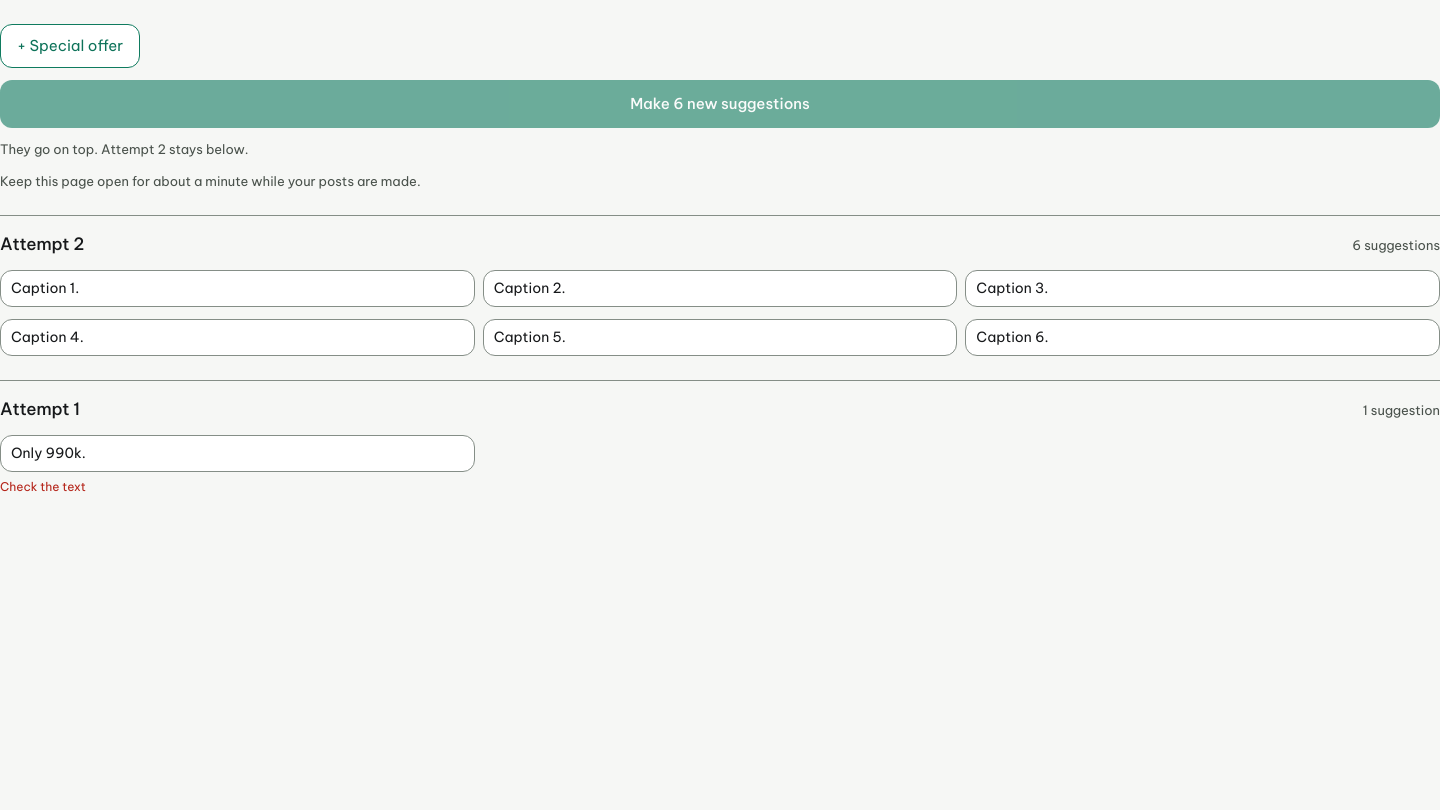
Test: captions follow the business by themselves › an older batch's unedited post is checked against today's details
This screenshot has width=1440, height=810.
Click the button "Only 990k. Check the text". click: (237,465)
box: 0,434 -> 475,496
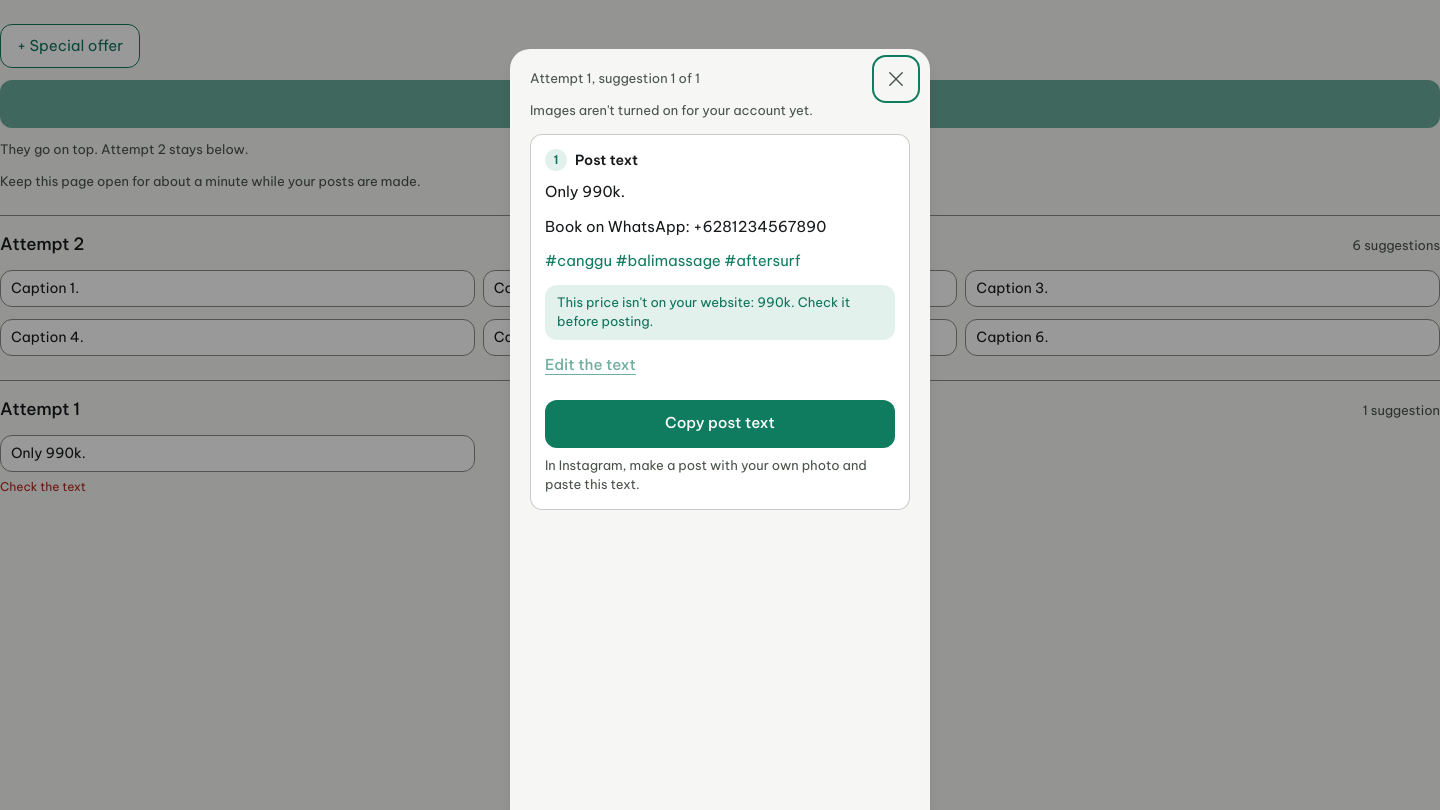
Result: the text "This price isn't on your website: 990k. Check it before posting." is shown at 545,285 -> 895,340
